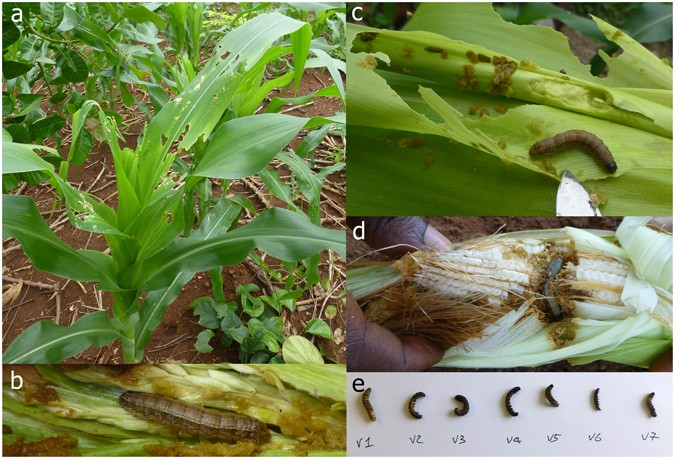Armyworm: (111, 383, 274, 448), (523, 126, 628, 173), (497, 383, 533, 422), (403, 385, 431, 425), (361, 375, 380, 431)
